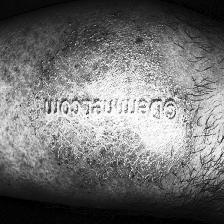Non-Cancerous Skin Condition: (14, 15, 187, 92), (29, 122, 197, 201)
